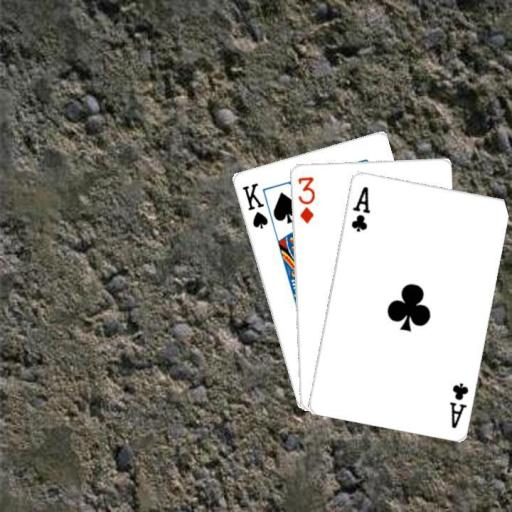3D: (294, 174, 316, 225)
AC: (446, 379, 469, 430), (348, 183, 371, 233)
KS: (238, 180, 270, 231)
